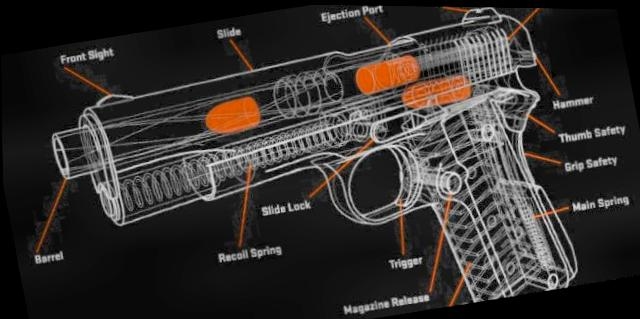pistol: (38, 0, 585, 319)
